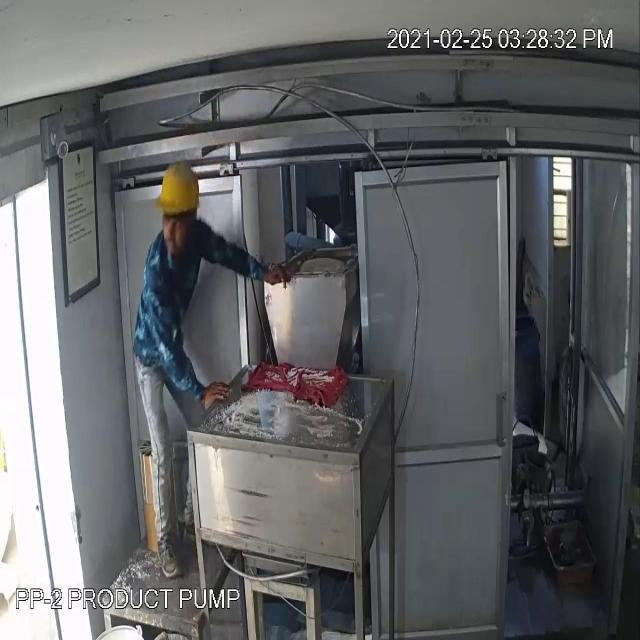hat: (154, 144, 210, 233)
